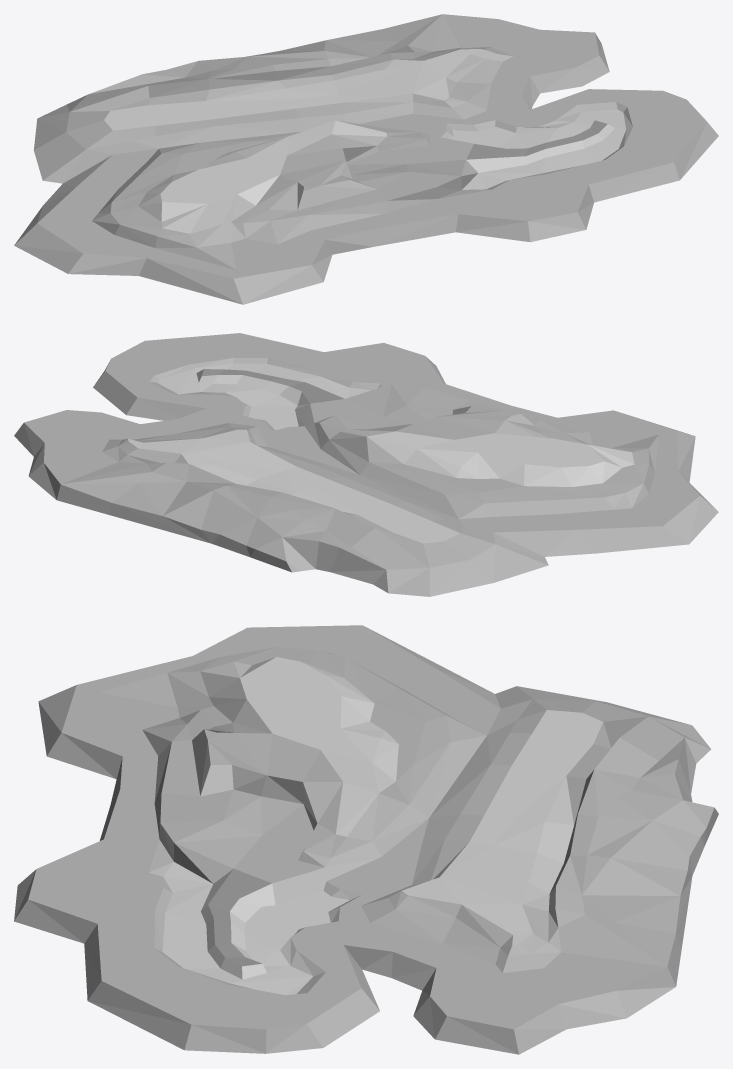
The model's file is EA03_Nature_Solid_Flat_01a.glb.
3 renders of one model, top to bottom at view 1: azimuth 30°, elevation 25°; view 2: azimuth 150°, elevation 25°; view 3: azimuth 270°, elevation 25°, orthographic. The views are drawn at different scales.
Visible parts, largest first — view 1: EA03_Nature_Solid_Flat_01a; view 2: EA03_Nature_Solid_Flat_01a; view 3: EA03_Nature_Solid_Flat_01a.
Boxes of the visible parts, x1,y1,x2,y2 form: EA03_Nature_Solid_Flat_01a: (14,14,718,304); EA03_Nature_Solid_Flat_01a: (14,333,718,596); EA03_Nature_Solid_Flat_01a: (14,625,718,1054).
Bounding box in the file's own units: 19.58 × 1.12 × 13.67.
1 material, 1 textured.
